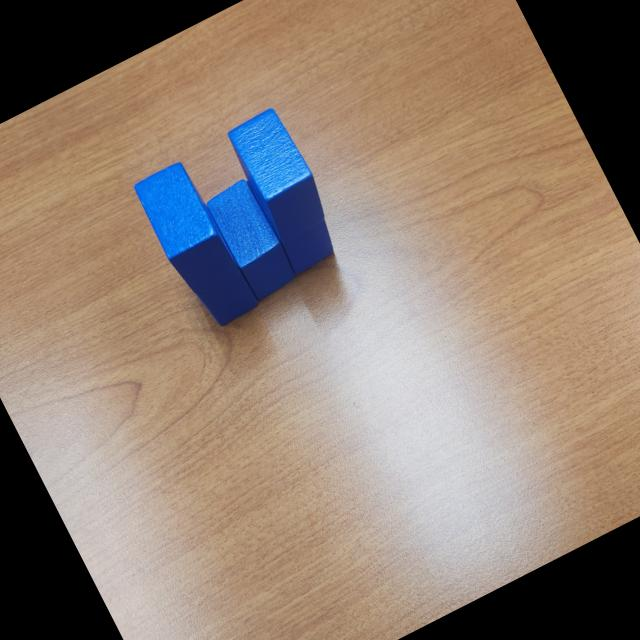blue: (130, 158, 242, 300), (222, 107, 334, 245), (203, 175, 303, 304), (245, 156, 343, 278), (192, 263, 262, 332)
